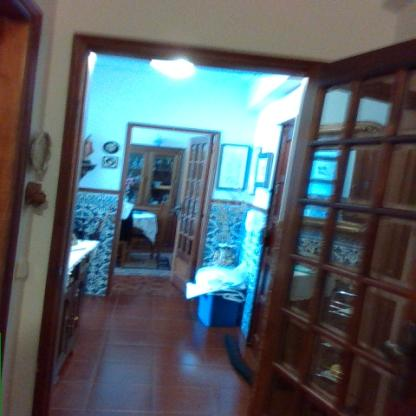open: (30, 21, 415, 416)
